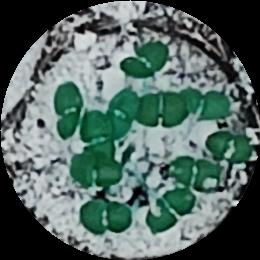Basil: (81, 200, 134, 239), (206, 127, 252, 167), (136, 94, 188, 128), (174, 153, 219, 192), (120, 41, 168, 77), (180, 88, 227, 124), (71, 155, 122, 188), (146, 194, 188, 234), (104, 89, 138, 138), (82, 114, 113, 158), (55, 86, 78, 137)
